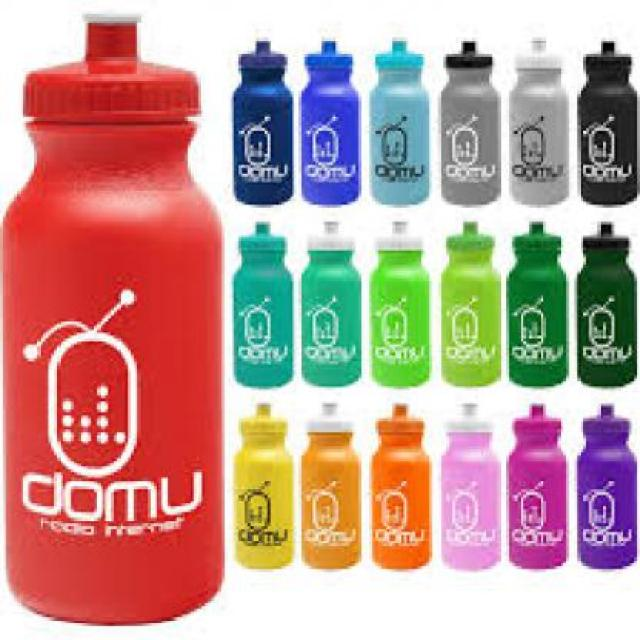Drinking: (12, 14, 233, 637)
